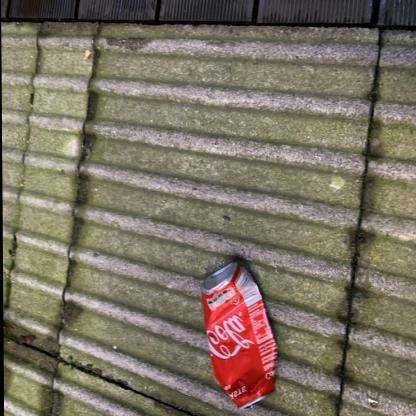trash: (202, 262, 276, 407)
